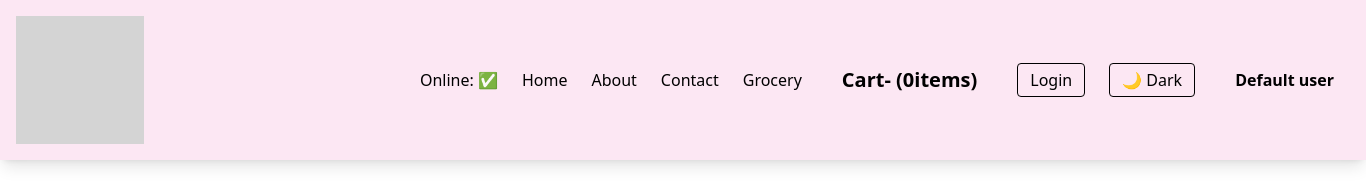
Test: Should  change login button to logout on click
Click the button "Login": (1051, 80) x1=1017 y1=63 x2=1085 y2=97
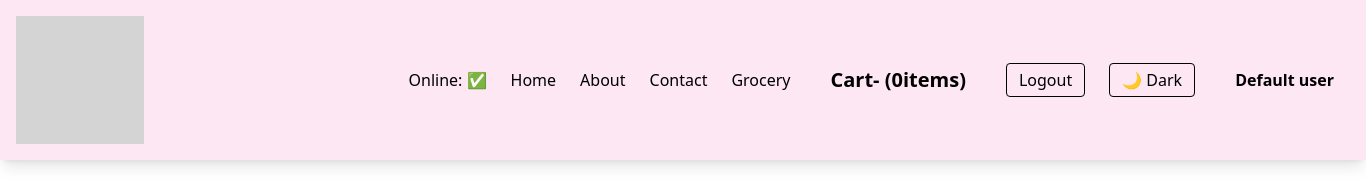
Result: the button "Logout" is shown at x1=1006 y1=63 x2=1085 y2=97
